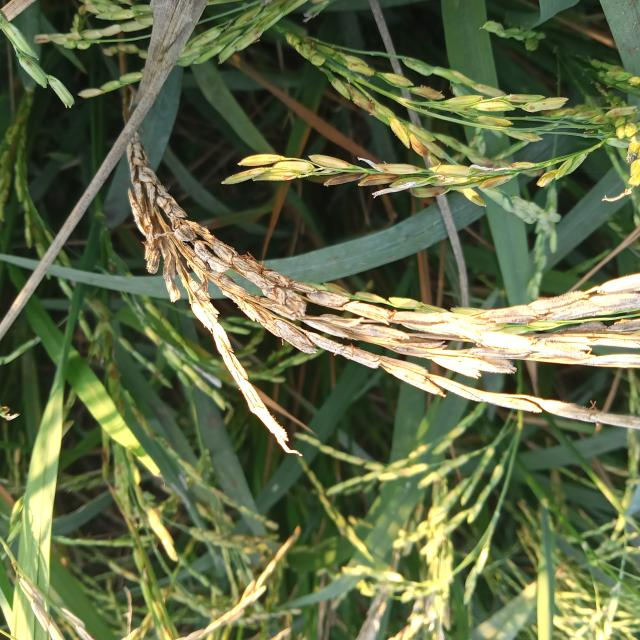Neck_Blast: (128, 163, 477, 381), (321, 175, 402, 187)
